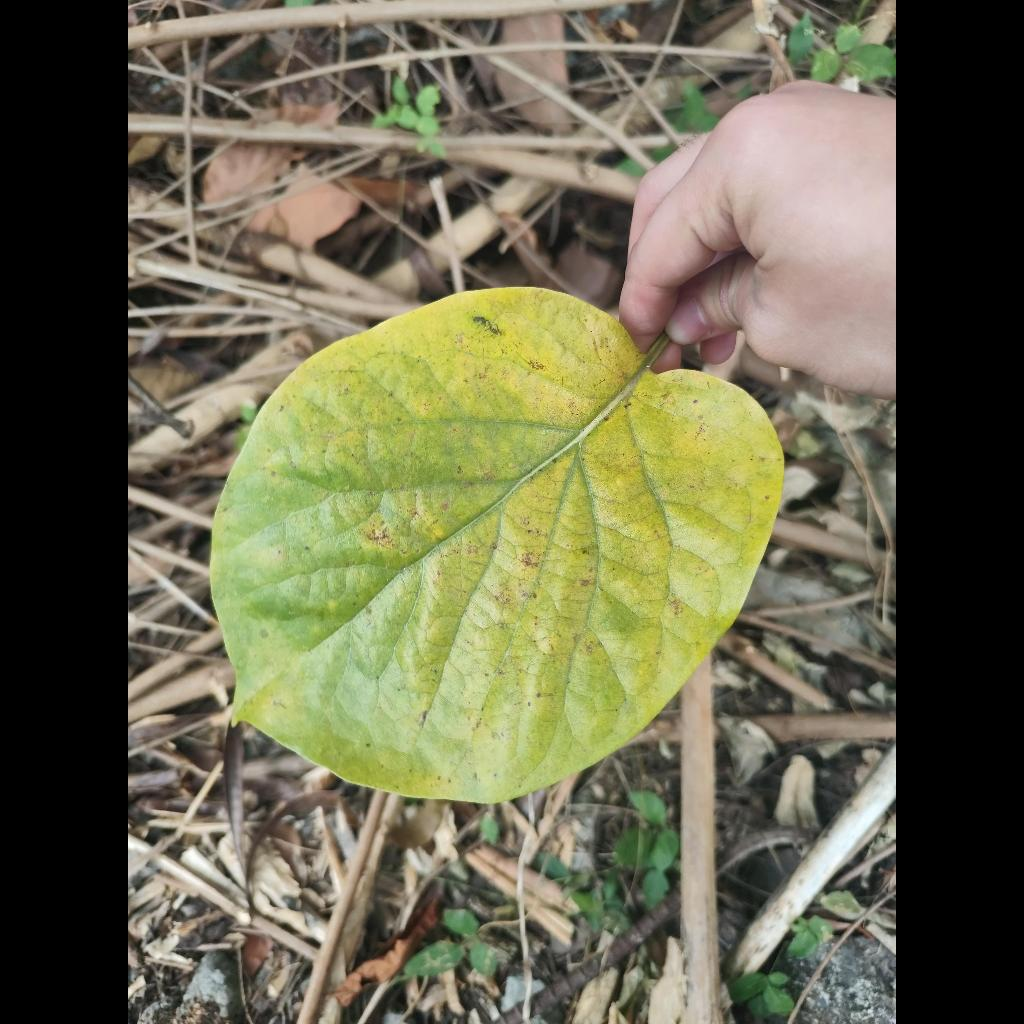deficiencia_nutricional: (210, 288, 783, 803)
